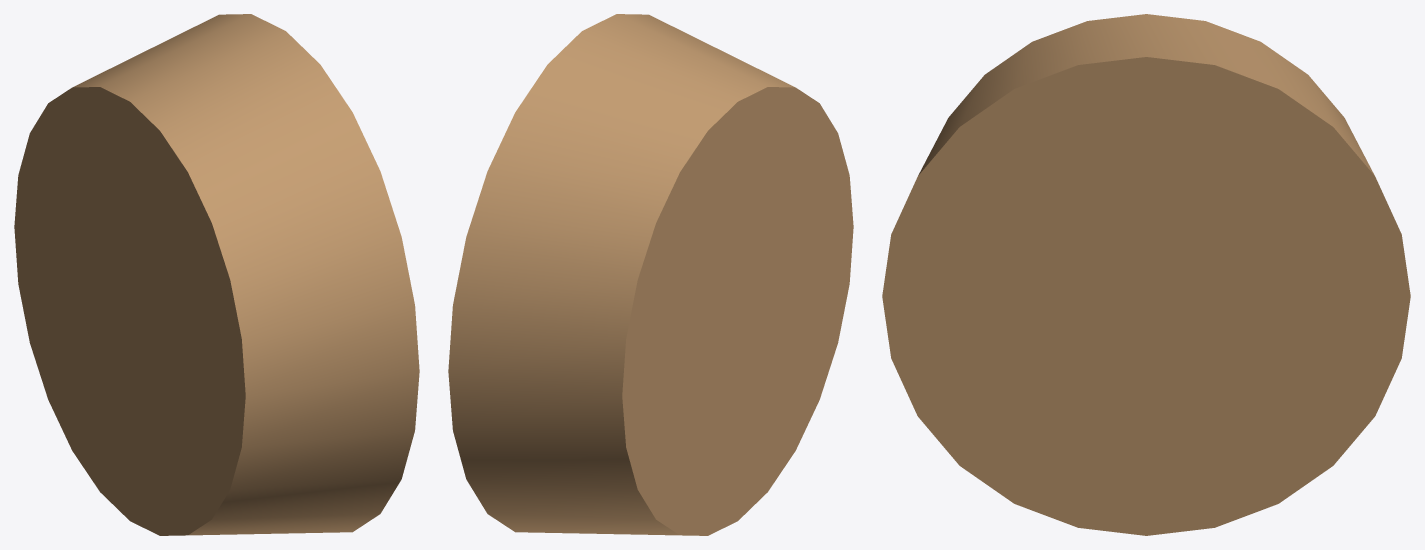
Rendered from jar_side_cork.obj.
3 renders of one model, left to right at view 1: azimuth 30°, elevation 25°; view 2: azimuth 150°, elevation 25°; view 3: azimuth 270°, elevation 25°, orthographic.
Visible parts, largest first — view 1: jar_side_cork; view 2: jar_side_cork; view 3: jar_side_cork.
Part boxes in pixels (x1,y1,x2,y2): jar_side_cork: [14, 14, 419, 535]; jar_side_cork: [448, 14, 853, 535]; jar_side_cork: [882, 14, 1410, 535].
Bounding box in the file's own units: 0.035 × 0.104 × 0.104.
1 material, 1 textured.
